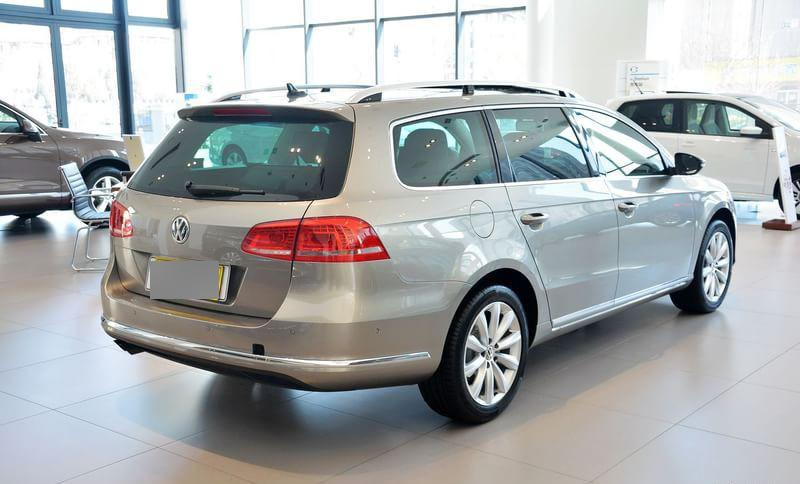Wagon: (99, 78, 738, 423)
